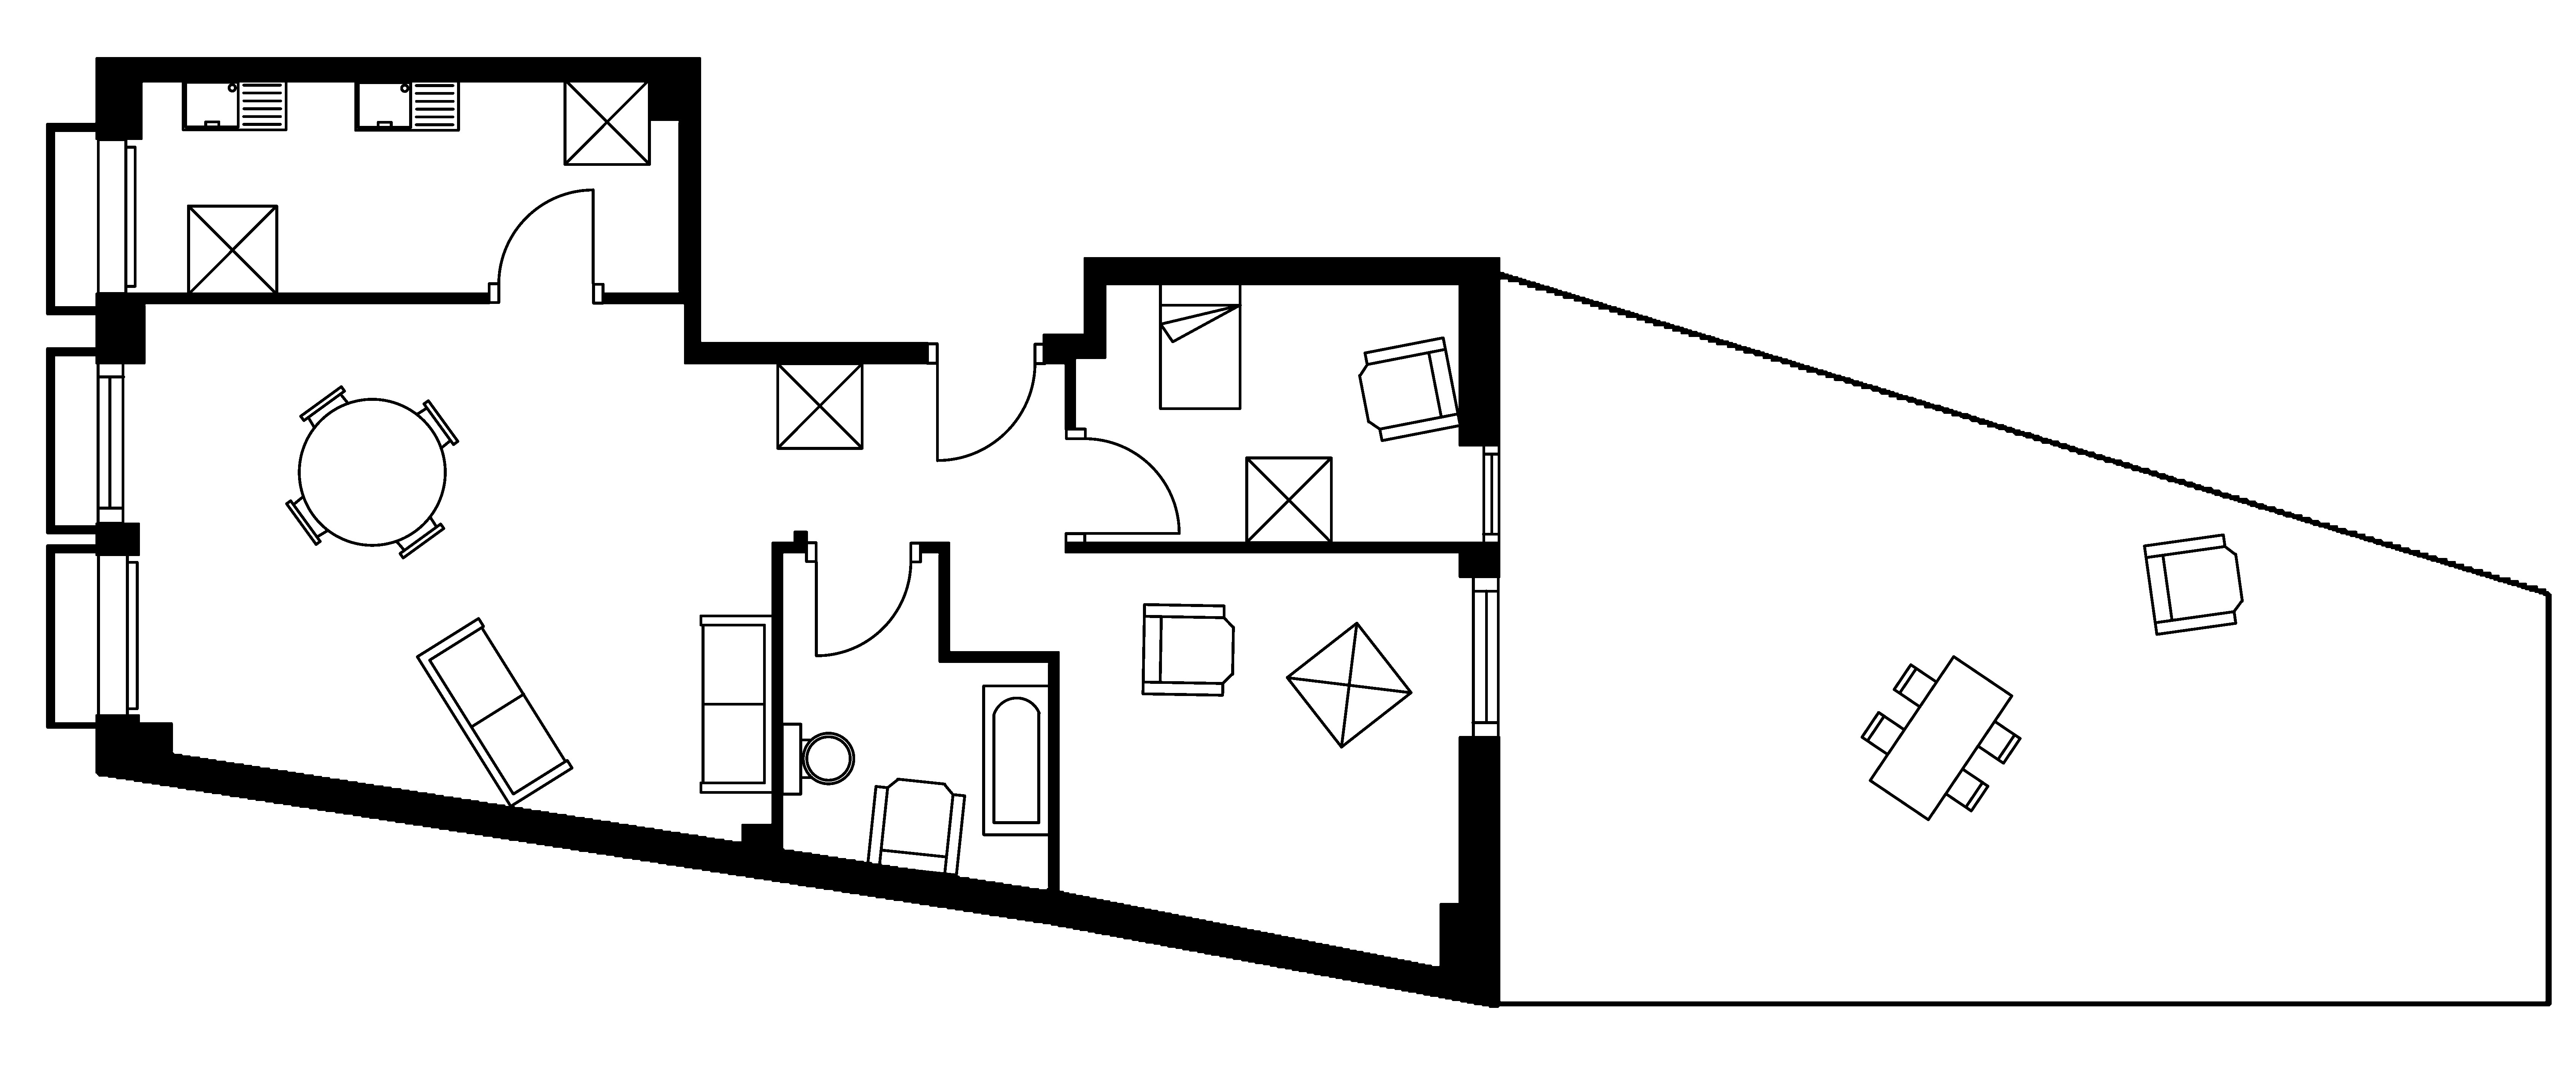armchair: (1357, 335, 1462, 442), (2142, 533, 2244, 636), (866, 778, 966, 877), (1140, 602, 1235, 697)
bed: (1158, 280, 1242, 411)
coffee_table: (1285, 622, 1413, 748), (186, 204, 278, 296), (562, 77, 651, 166), (775, 362, 864, 451), (1245, 456, 1332, 544)
dining_table: (1860, 655, 2022, 822)
large_sink: (780, 722, 854, 796)
large_sofa: (416, 617, 573, 807), (698, 613, 774, 794)
round_table: (284, 385, 460, 559)
sink: (181, 77, 287, 132), (353, 77, 460, 132)
tub: (981, 684, 1051, 837)
